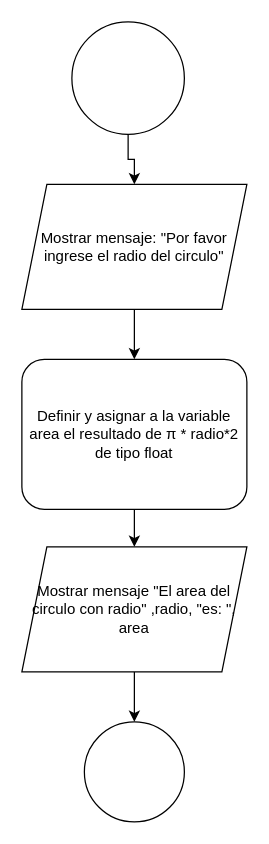
Image size: 269x844. Some labels were removed from this diagram. Here are the shapes that lost their labels. From the top down, the centre of each, then its label:
(x=127, y=77): Inicio
(x=133, y=771): Fin
